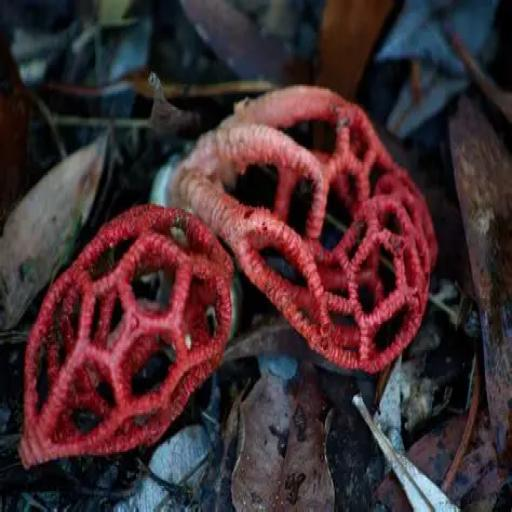mushroom: (154, 79, 431, 367), (18, 205, 234, 462)
